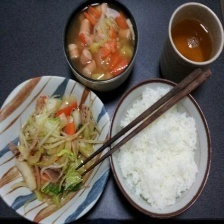rice: (111, 84, 203, 212)
